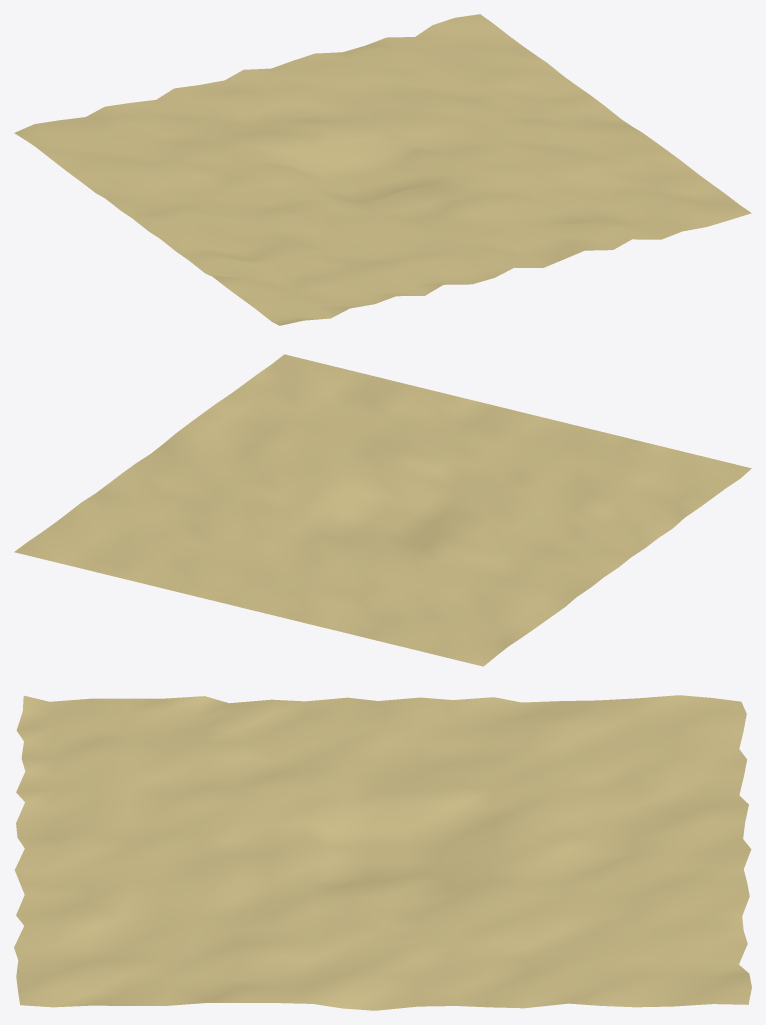
Rendered from level01_ground.fbx.
3 renders of one model, top to bottom at view 1: azimuth 30°, elevation 25°; view 2: azimuth 150°, elevation 25°; view 3: azimuth 270°, elevation 25°, orthographic. The views are drawn at different scales.
Parts seen in each view (by area): view 1: ground; view 2: ground; view 3: ground.
Part boxes in pixels (left/top/right/bottom): ground: left=14, top=14, right=751, bottom=325; ground: left=14, top=354, right=751, bottom=666; ground: left=14, top=695, right=751, bottom=1010.
Bounding box in the file's own units: 101 × 1.66 × 101.
